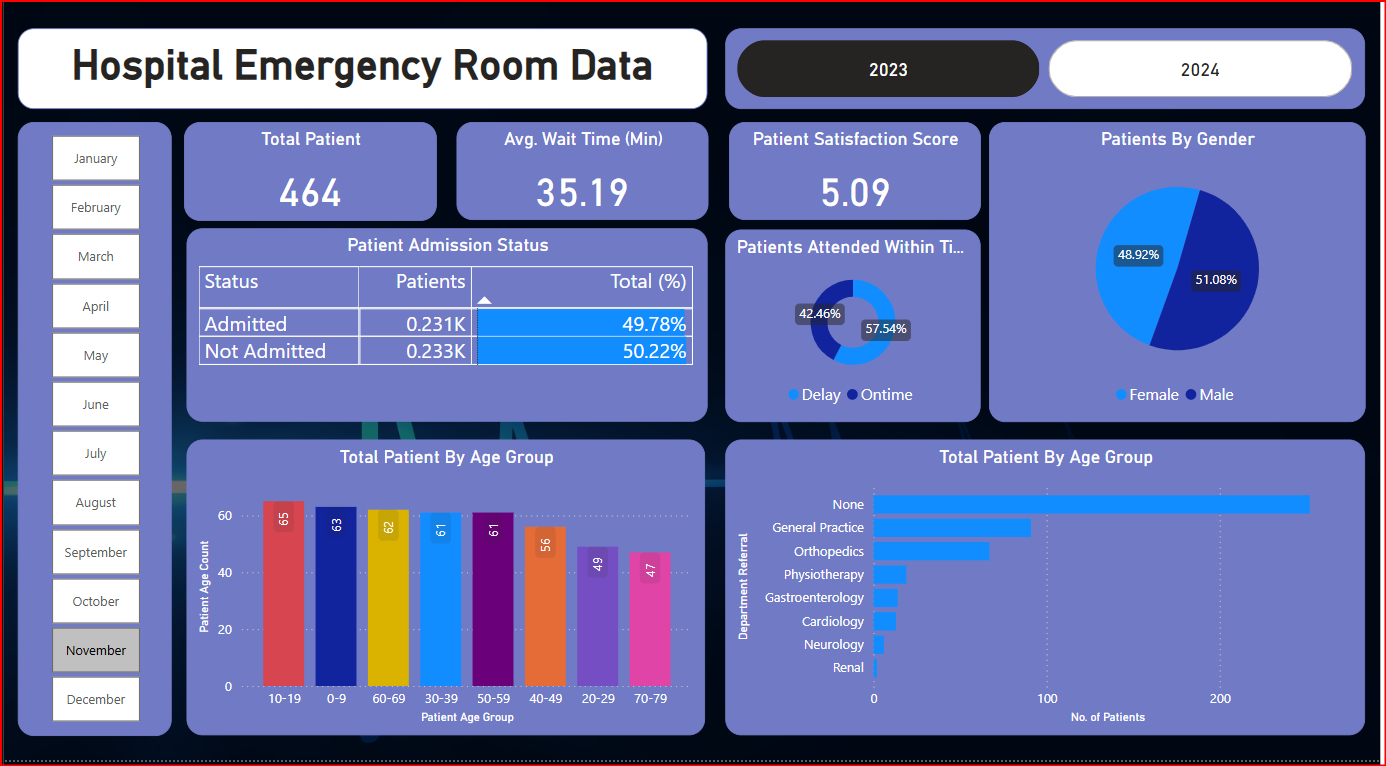

What the dashboard file says about the page in this screenshot:
{"tool":"powerbi","page":{"name":"Dashboard","canvas":[1280,720],"ordinal":0},"visuals":[{"type":"cardVisual","title":"Total Patient","fields":{"Data":["Count(Hospital Emergency Room Data.Patient Id)"]},"box":[167.4,125.6,235.1,91.9],"z":0,"group":"g1"},{"type":"pivotTable","title":"Patient Admission Status","fields":{"Rows":["Hospital Emergency Room Data.Patient Admission Flag"],"Values":["CountNonNull(Hospital Emergency Room Data.Patient Admission Flag)","Divide(CountNonNull(Hospital Emergency Room Data.Patient Admission Flag), ScopedEval(CountNonNull(Hospital Emergency Roo"]},"box":[169.8,224.4,484.9,180.2],"z":0},{"type":"cardVisual","title":"Avg. Wait Time (Min)","fields":{"Data":["Avg(Hospital Emergency Room Data.Patient Waittime)"]},"box":[421.4,125.6,234.1,91.2],"z":1000,"group":"g1"},{"type":"columnChart","title":"Total Patient By Age Group","fields":{"Category":["Hospital Emergency Room Data.Patient Age Group"],"Y":["CountNonNull(Hospital Emergency Room Data.Patient Age)"],"Series":["Hospital Emergency Room Data.Patient Age Group"]},"box":[169.8,420.9,482.6,275.6],"z":1000},{"type":"cardVisual","title":"Patient Satisfaction Score","fields":{"Data":["Avg(Hospital Emergency Room Data.Patient Satisfaction Score)"]},"box":[674,125.6,234.1,91.2],"z":2000,"group":"g1"},{"type":"group","id":"g1","title":"Group 1","box":[167.4,125.6,740.7,90.7],"z":2000},{"type":"donutChart","title":"Patients Attended Within Time","fields":{"Y":["CountNonNull(Hospital Emergency Room Data.Patient Attend Status)"],"Series":["Hospital Emergency Room Data.Patient Attend Status"]},"box":[670.9,225.6,237.2,179.1],"z":3000},{"type":"pieChart","title":"Patients By Gender","fields":{"Y":["CountNonNull(Hospital Emergency Room Data.Patient Gender)"],"Series":["Hospital Emergency Room Data.Patient Gender"]},"box":[916.3,125.6,350,279.1],"z":4000},{"type":"barChart","title":"Total Patient By Age Group","fields":{"Category":["Hospital Emergency Room Data.Department Referral"],"Y":["CountNonNull(Hospital Emergency Room Data.Patient Id)"]},"box":[670.9,420.9,595.4,275.6],"z":5000},{"type":"advancedSlicerVisual","fields":{"Values":["Calendar_Table.Dates.Variation.Date Hierarchy.Year"]},"box":[670.9,38.4,595.4,75.6],"z":6000},{"type":"slicer","fields":{"Values":["Calendar_Table.Dates.Variation.Date Hierarchy.Month"]},"box":[12.8,125.6,143,570.9],"z":7000},{"type":"textbox","title":"Hospital Emergency Room Data","box":[12.8,38.4,641.9,75.6],"z":8000}]}

Visuals, with their boxes in screenshot pixels (x1, y1, x2, y2), scaled from the page's 1280x720 canvas onto the 1386x766 screenshot:
"Total Patient" cardVisual: 181 134 436 231
"Patient Admission Status" pivotTable: 184 239 709 430
"Avg. Wait Time (Min)" cardVisual: 456 134 710 231
"Total Patient By Age Group" columnChart: 184 448 706 741
"Patient Satisfaction Score" cardVisual: 730 134 983 231
"Group 1" group: 181 134 983 230
"Patients Attended Within Time" donutChart: 726 240 983 431
"Patients By Gender" pieChart: 992 134 1371 431
"Total Patient By Age Group" barChart: 726 448 1371 741
advancedSlicerVisual - Calendar_Table.Dates.Variation.Date Hierarchy.Year: 726 41 1371 121
slicer - Calendar_Table.Dates.Variation.Date Hierarchy.Month: 14 134 169 741
"Hospital Emergency Room Data" textbox: 14 41 709 121
